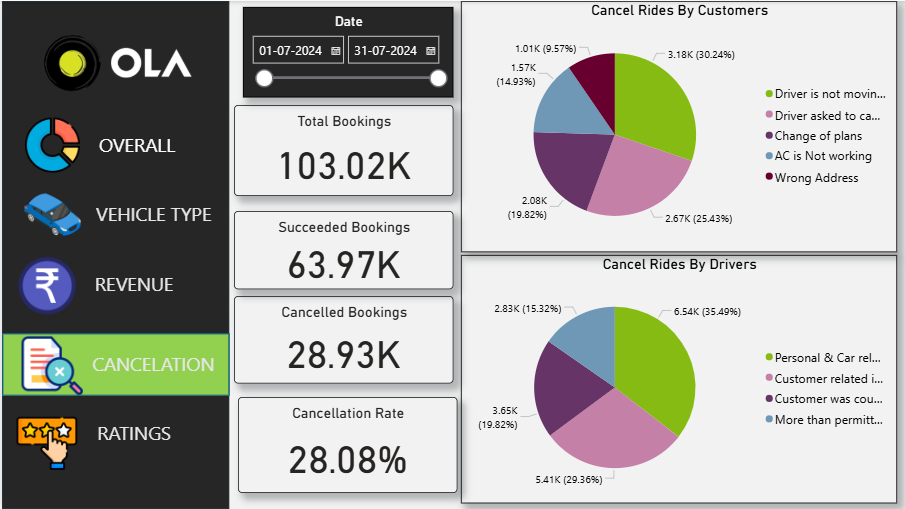

The page's visual inventory and layout, read from the dashboard file:
{"tool":"powerbi","page":{"name":"Cancelation","canvas":[1280,720],"ordinal":3},"visuals":[{"type":"shape","box":[0,0,322,720],"z":0},{"type":"image","box":[144.6,52.4,134.6,70.9],"z":1000},{"type":"image","box":[0,0,199.8,175.7],"z":2000},{"type":"shape","box":[0,471.2,322.7,89.4],"z":3000},{"type":"textbox","box":[124.2,180.3,133.3,51.5],"z":4000},{"type":"textbox","box":[124.2,277.3,187.9,51.5],"z":5000},{"type":"textbox","box":[119.7,377.3,136.4,51.5],"z":6000},{"type":"image","box":[15.2,253,112.1,98.5],"z":7000},{"type":"image","box":[15.2,160.6,112.1,87.9],"z":8000},{"type":"image","box":[15.2,353,97,100],"z":9000},{"type":"image","box":[22.7,466.7,97,100],"z":10000},{"type":"textbox","box":[118.2,490.9,193.9,51.5],"z":11000},{"type":"image","box":[15.6,576.9,96.4,99.2],"z":12000},{"type":"textbox","box":[119.7,587.9,136.4,50],"z":13000},{"type":"actionButton","box":[-0.6,256.1,322.7,89.4],"z":14000},{"type":"actionButton","box":[-0.6,356.1,322.7,89.4],"z":15000},{"type":"actionButton","box":[0,159.1,322.7,89.4],"z":16000},{"type":"actionButton","box":[0,568.2,322.7,89.4],"z":17000},{"type":"pieChart","title":"Cancel Rides By Customers","fields":{"Category":["July.Canceled_Rides_by_Customer"],"Y":["CountNonNull(July.Canceled_Rides_by_Customer)"]},"box":[650.8,0,618,355.7],"z":18000},{"type":"pieChart","title":"Cancel Rides By Drivers","fields":{"Category":["July.Canceled_Rides_by_Driver"],"Y":["CountNonNull(July.Canceled_Rides_by_Driver)"]},"box":[650.8,360.7,618,352.5],"z":19000},{"type":"slicer","title":"Date","fields":{"Values":["July.Date"]},"box":[341,8.2,298.4,127.9],"z":20000},{"type":"card","title":"Total Bookings","fields":{"Values":["Count(July.Booking_ID)"]},"box":[329.2,147.8,310.8,129.3],"z":21000},{"type":"card","title":"Cancelled Bookings","fields":{"Values":["Count(July.Booking_ID)"]},"box":[329.2,418.3,310.8,124.3],"z":22000},{"type":"card","title":"Succeeded Bookings","fields":{"Values":["Count(July.Booking_ID)"]},"box":[329.2,297.3,310.8,110.9],"z":23000},{"type":"card","title":"Cancellation Rate","fields":{"Values":["July.CanceledPrecentage"]},"box":[334.3,561,310.8,136.1],"z":24000}]}

Visuals, with their boxes in screenshot pixels (x1, y1, x2, y2), scaled from the page's 1280x720 canvas onto the 905x509 screenshot:
shape: bbox=(0, 0, 228, 508)
image: bbox=(102, 37, 197, 87)
image: bbox=(0, 0, 141, 124)
shape: bbox=(0, 333, 228, 396)
textbox: bbox=(88, 127, 182, 164)
textbox: bbox=(88, 196, 221, 232)
textbox: bbox=(85, 267, 181, 303)
image: bbox=(11, 179, 90, 248)
image: bbox=(11, 114, 90, 176)
image: bbox=(11, 250, 79, 320)
image: bbox=(16, 330, 85, 401)
textbox: bbox=(84, 347, 221, 383)
image: bbox=(11, 408, 79, 478)
textbox: bbox=(85, 416, 181, 451)
actionButton: bbox=(0, 181, 228, 244)
actionButton: bbox=(0, 252, 228, 315)
actionButton: bbox=(0, 112, 228, 176)
actionButton: bbox=(0, 402, 228, 465)
"Cancel Rides By Customers" pieChart: bbox=(460, 0, 897, 251)
"Cancel Rides By Drivers" pieChart: bbox=(460, 255, 897, 504)
"Date" slicer: bbox=(241, 6, 452, 96)
"Total Bookings" card: bbox=(233, 104, 452, 196)
"Cancelled Bookings" card: bbox=(233, 296, 452, 384)
"Succeeded Bookings" card: bbox=(233, 210, 452, 289)
"Cancellation Rate" card: bbox=(236, 397, 456, 493)
